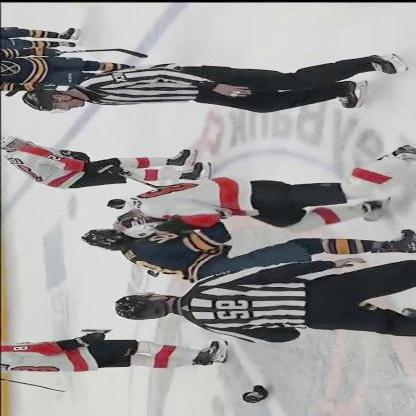non-Voilence: (22, 52, 414, 112)
voilence: (82, 177, 409, 282)
